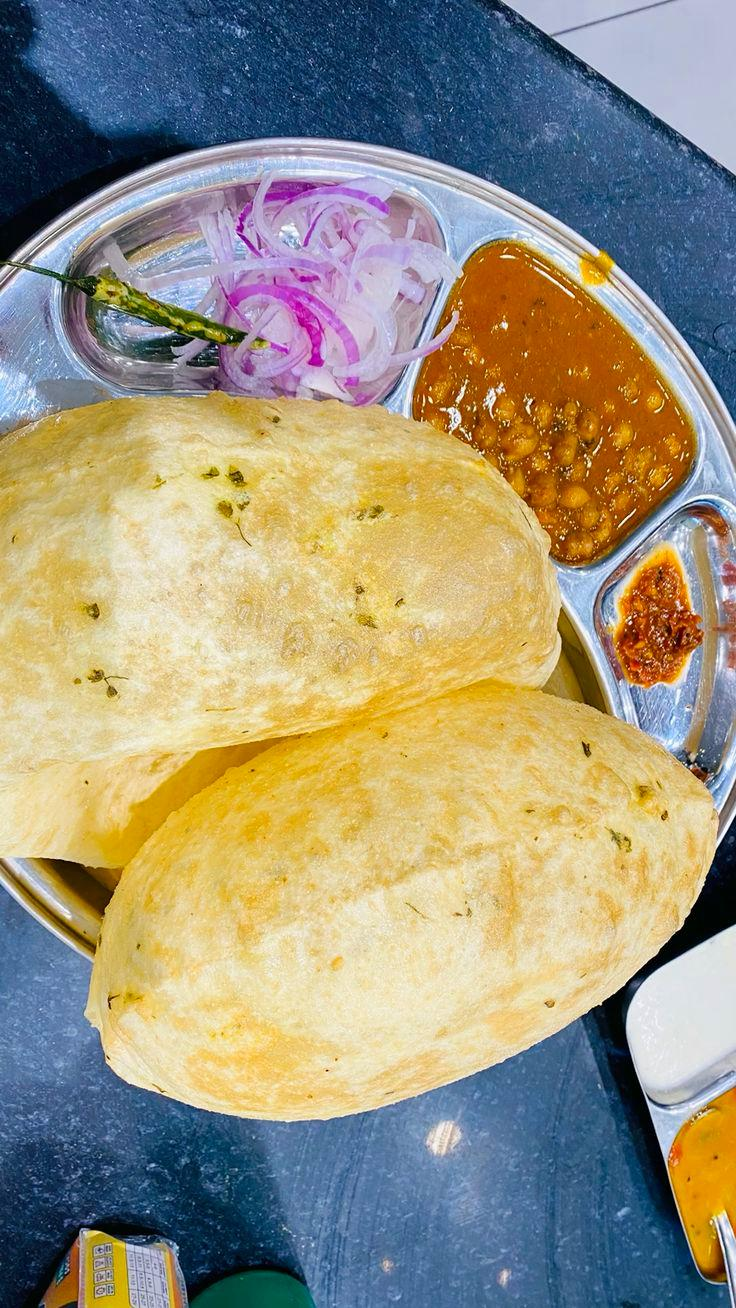chole: (443, 264, 686, 532)
puri: (0, 384, 710, 1100)
salad: (90, 161, 434, 376)
